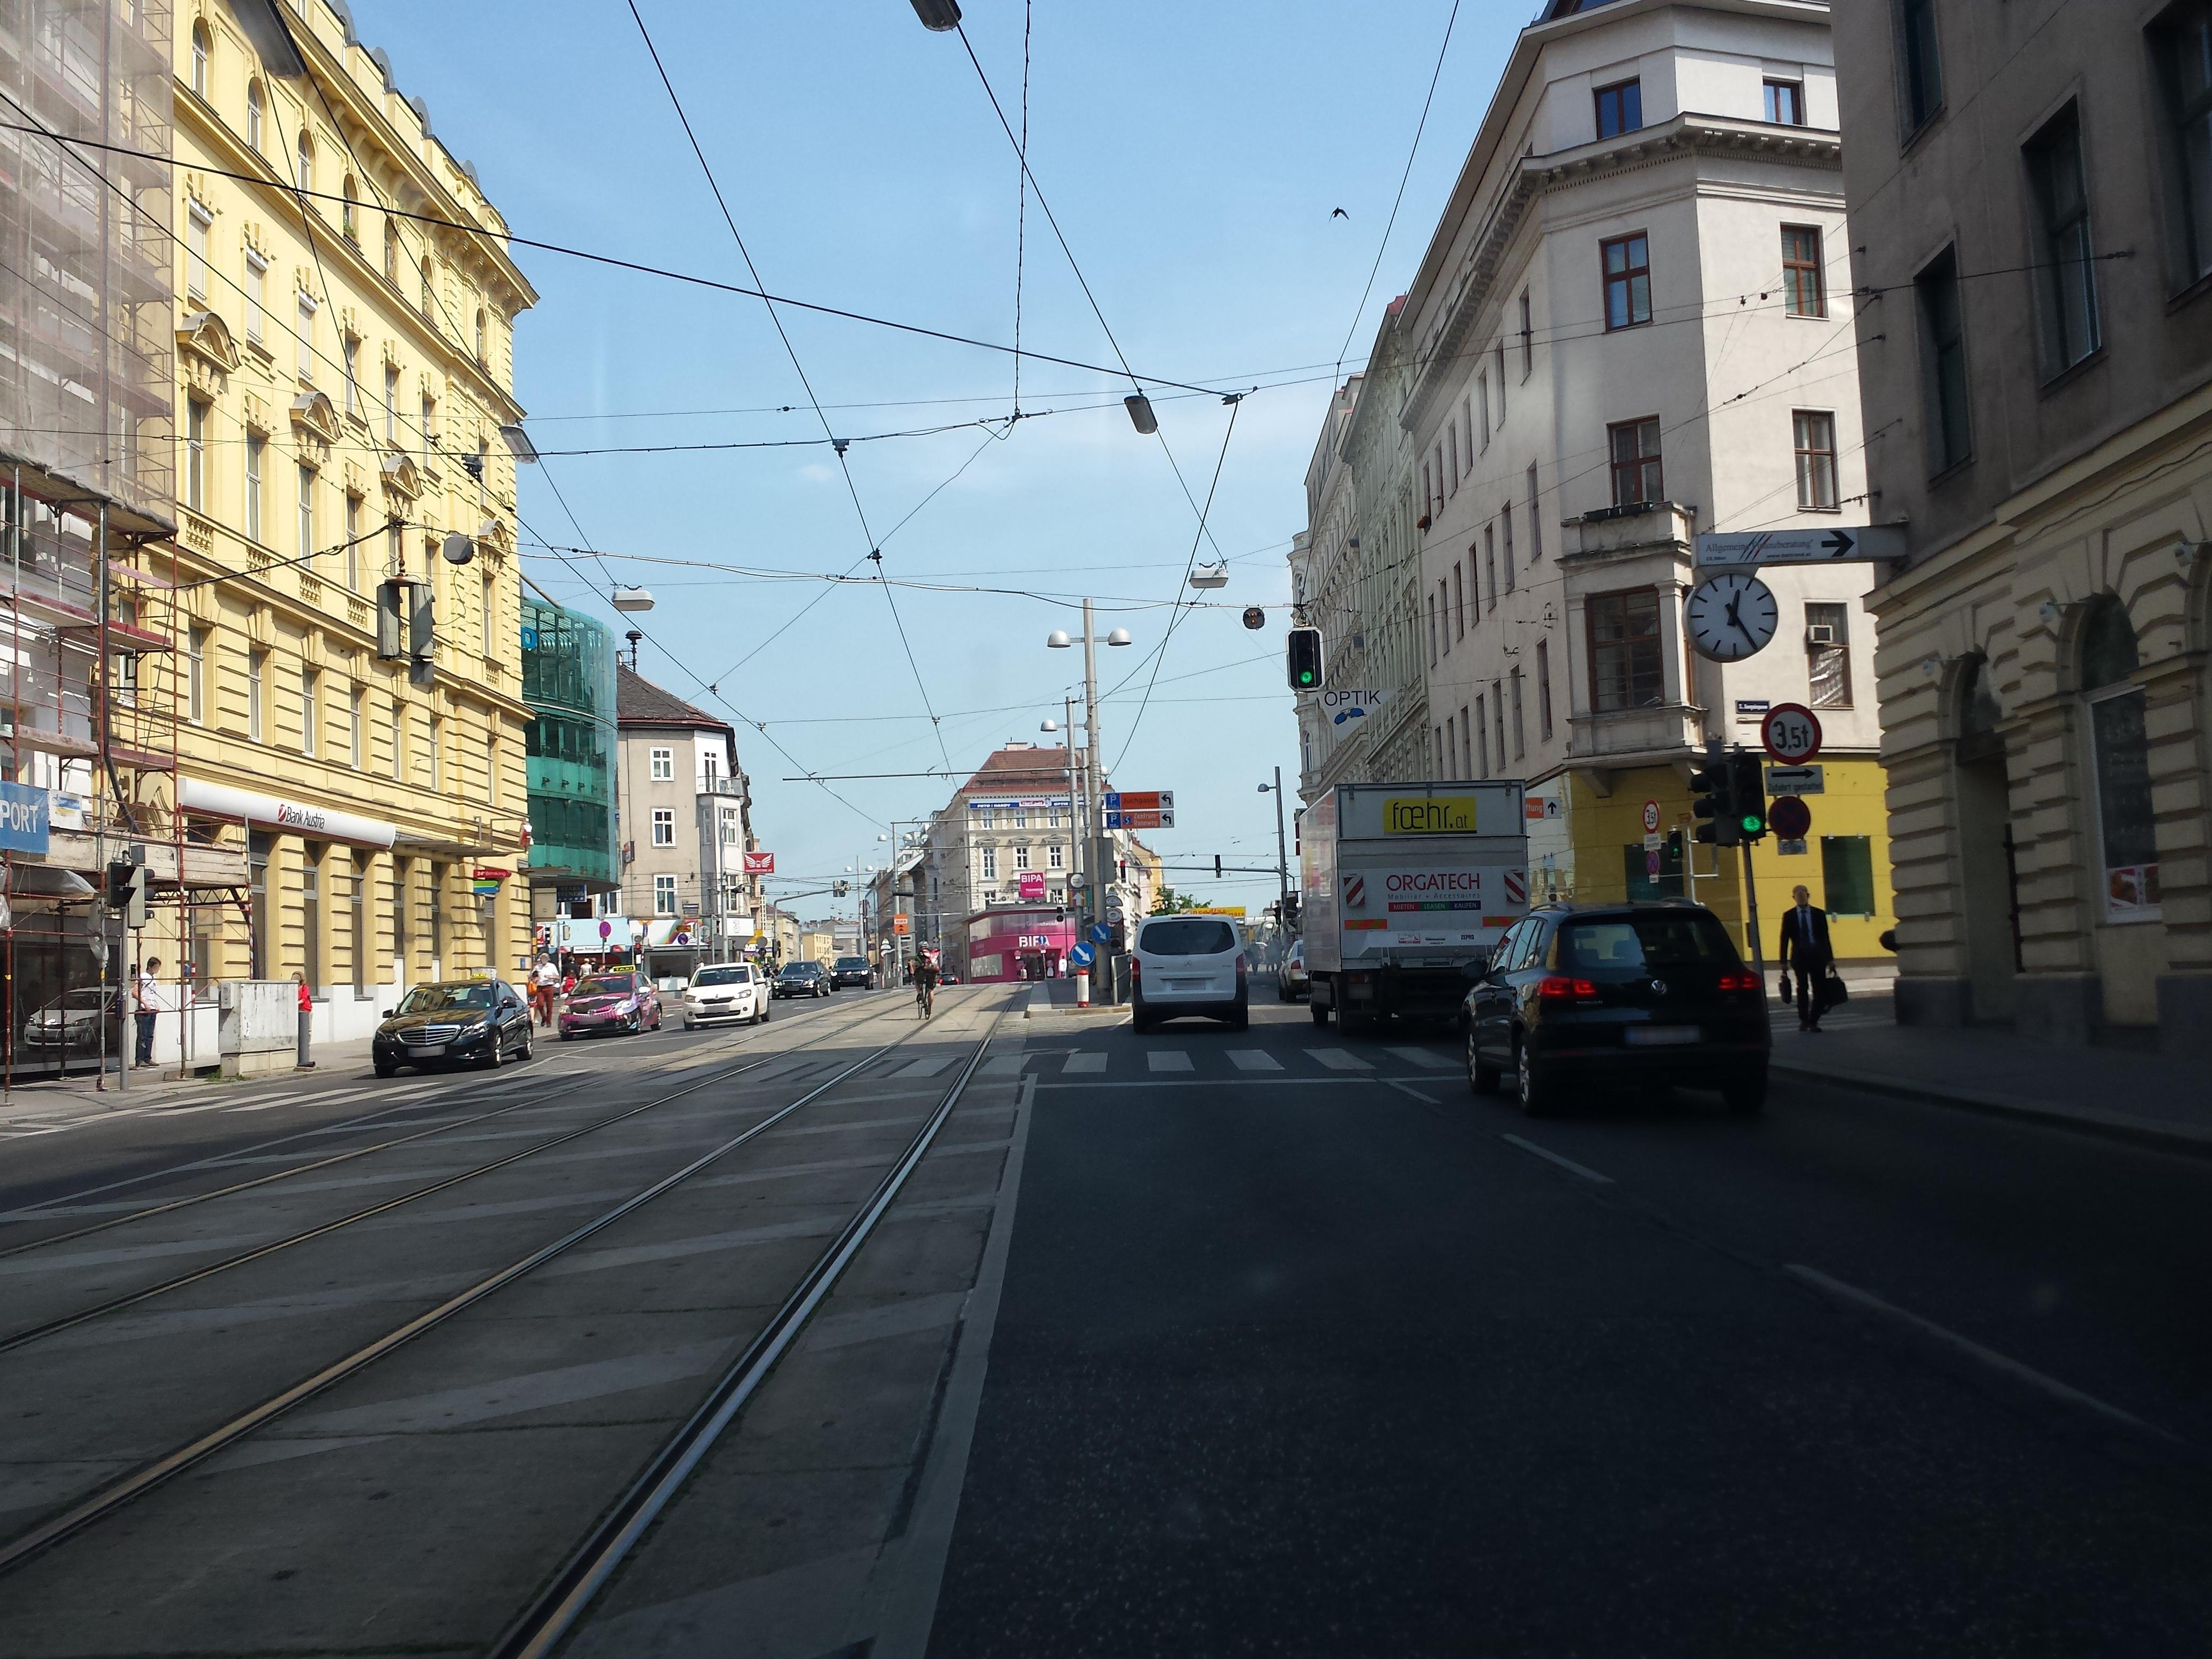vinyl banner: (5, 770, 70, 875)
